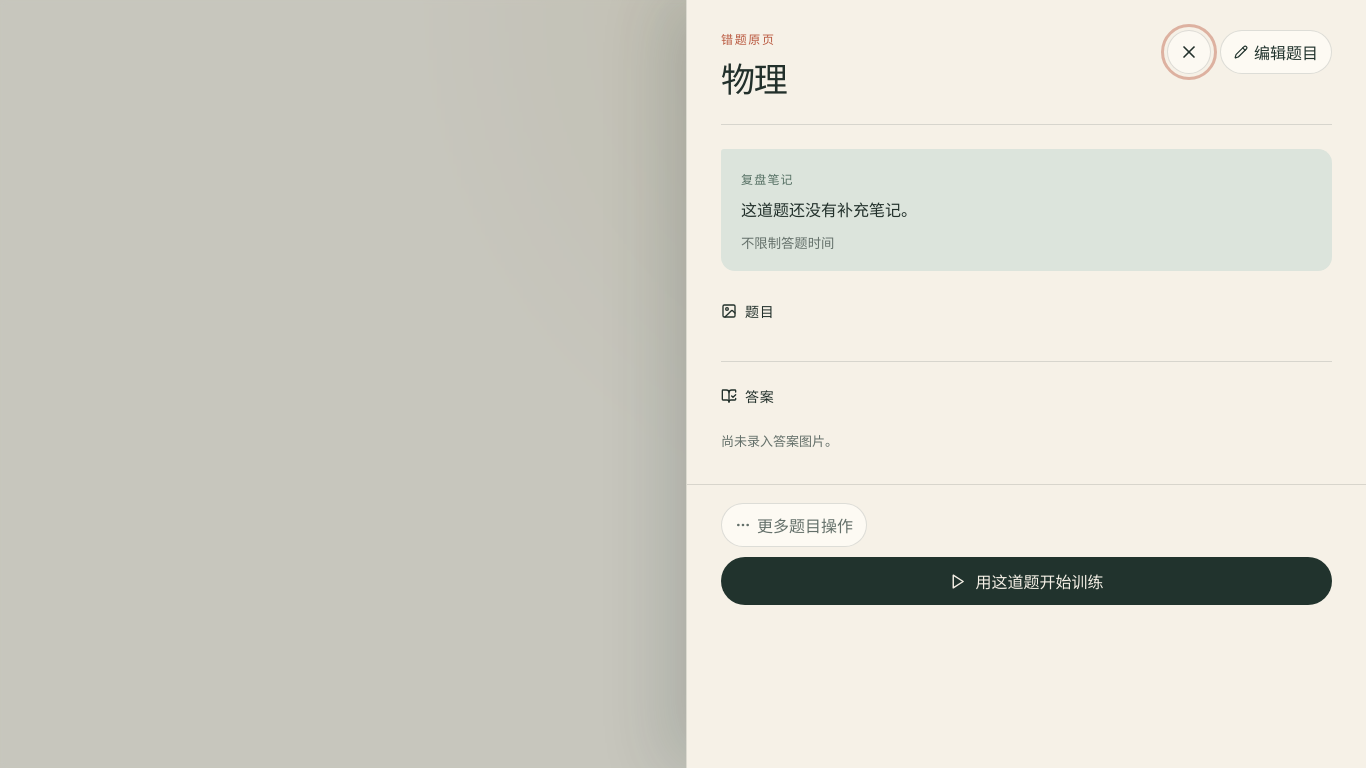
Scenario: ProblemDetailDrawer › rejects an out-of-range answer time limit before saving
This screenshot has width=1366, height=768.
Step 1. Click the button "编辑题目" → click(1276, 52), box 1220,30 -> 1332,74
(page scrolled)
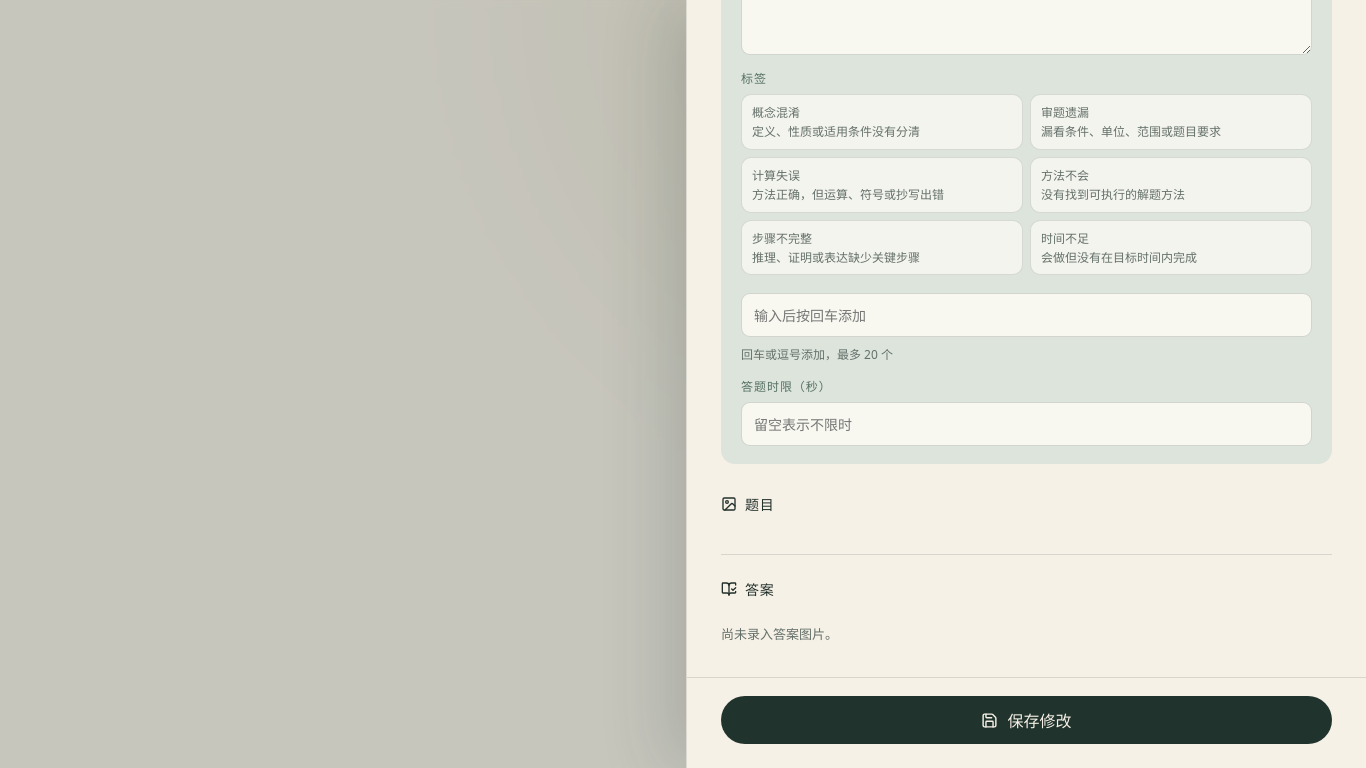
Step 2. Type "0" into the number field labelled "答题时限（秒）" → (1026, 424), box 741,402 -> 1312,446
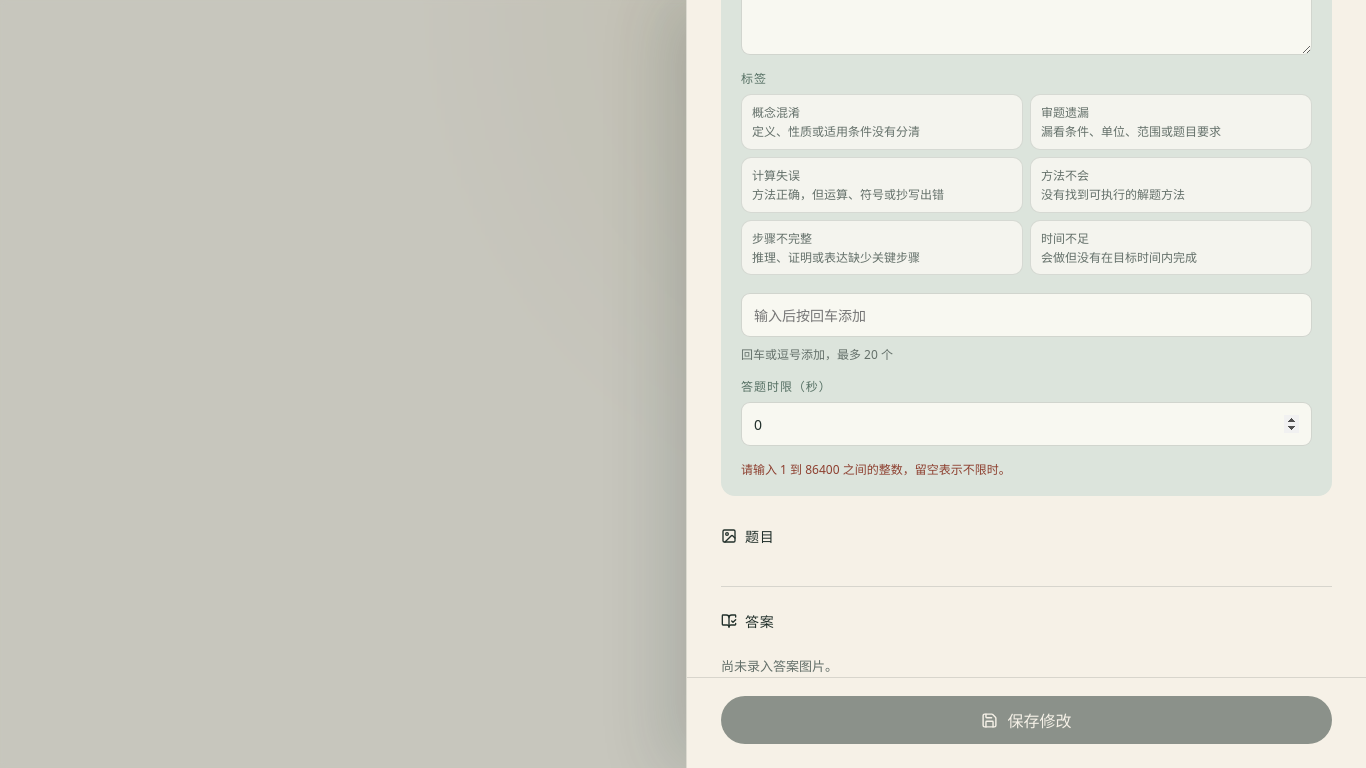
Result: the message "请输入 1 到 86400 之间的整数，留空表示不限时。" is shown at 741,461 -> 1011,478
Result: the button "保存修改" is disabled at 721,696 -> 1332,744
